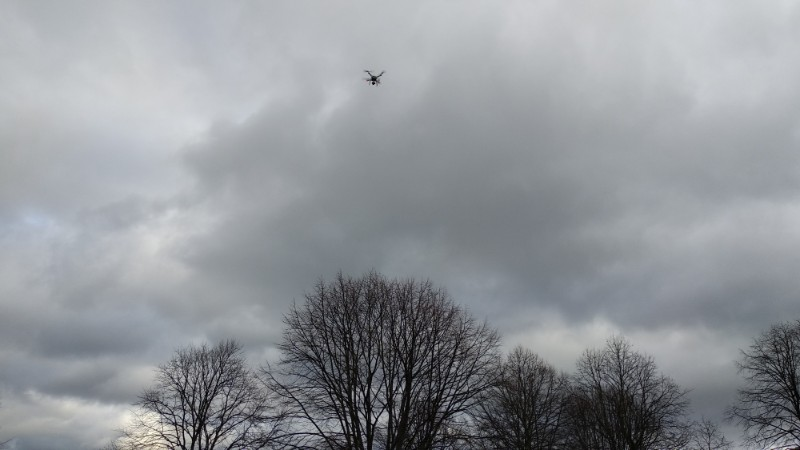drone: (365, 70, 384, 86)
